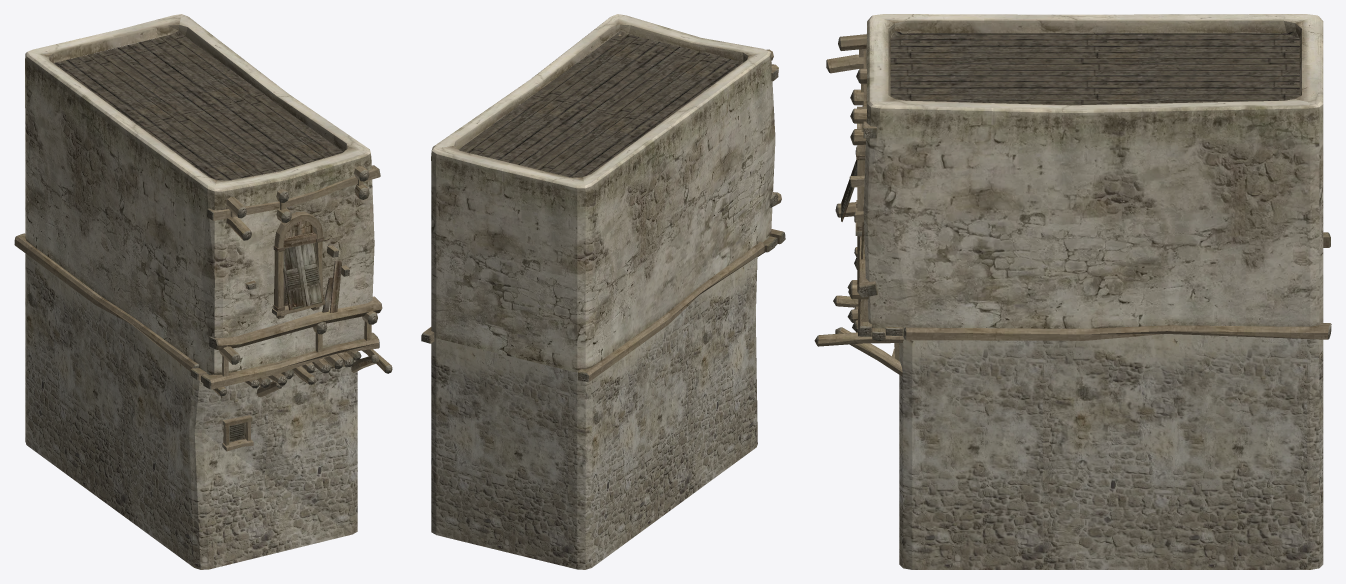
Rendered from TW2_5_HOUSE_02_24-transformed.glb.
The picture shows the model from 3 angles, left to right: view 1: azimuth 30°, elevation 25°; view 2: azimuth 150°, elevation 25°; view 3: azimuth 270°, elevation 25°; orthographic projection. The views are drawn at different scales.
Parts seen in each view (by area): view 1: default; view 2: default; view 3: default.
Part boxes in pixels (bbox=[...]): default: bbox=[14, 14, 392, 569]; default: bbox=[421, 14, 785, 569]; default: bbox=[814, 14, 1331, 569].
Size of the model in its own units: 3.97 by 8.41 by 8.51.
4 materials, 4 textured.
